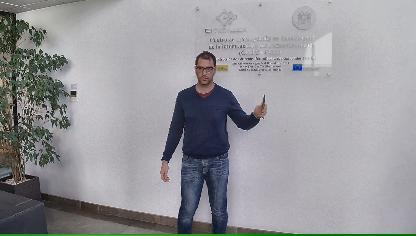knife: (258, 90, 268, 120)
